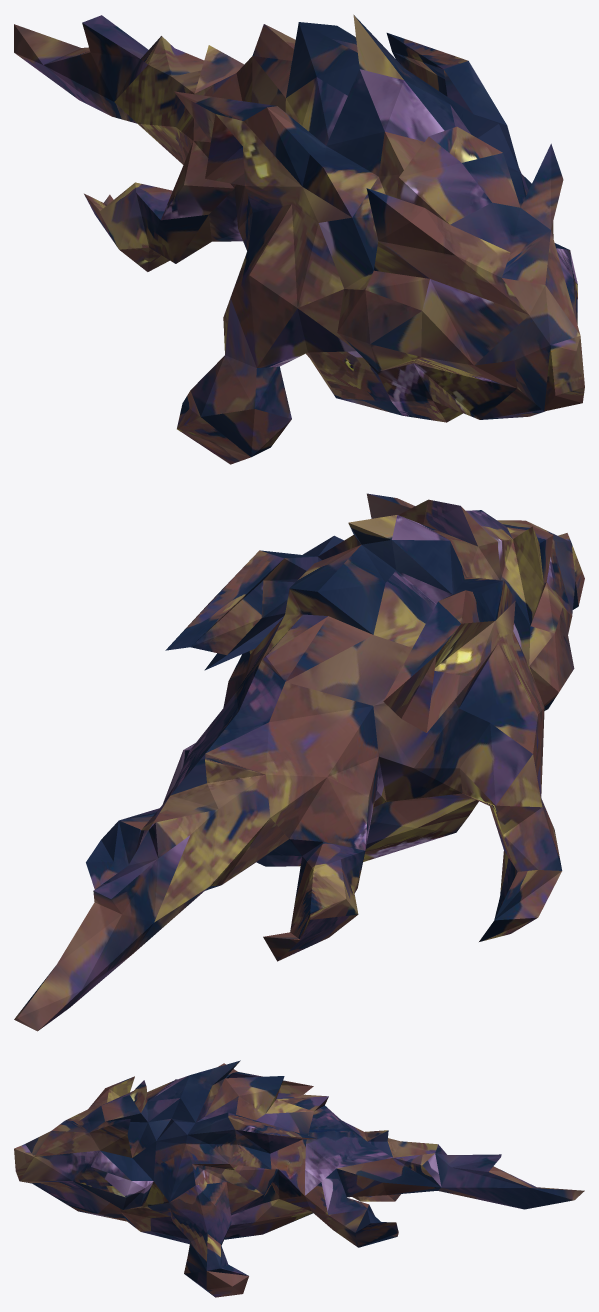
3 renders of one model, top to bottom at view 1: azimuth 30°, elevation 25°; view 2: azimuth 150°, elevation 25°; view 3: azimuth 270°, elevation 25°, orthographic. The views are drawn at different scales.
Parts seen in each view (by area): view 1: ai_model; view 2: ai_model; view 3: ai_model.
Boxes of the visible parts, <box> form: ai_model: <box>14,14,584,464</box>; ai_model: <box>14,493,584,1031</box>; ai_model: <box>14,1060,584,1297</box>.
Size of the model in its own units: 0.3768 by 0.3902 by 0.9906.
